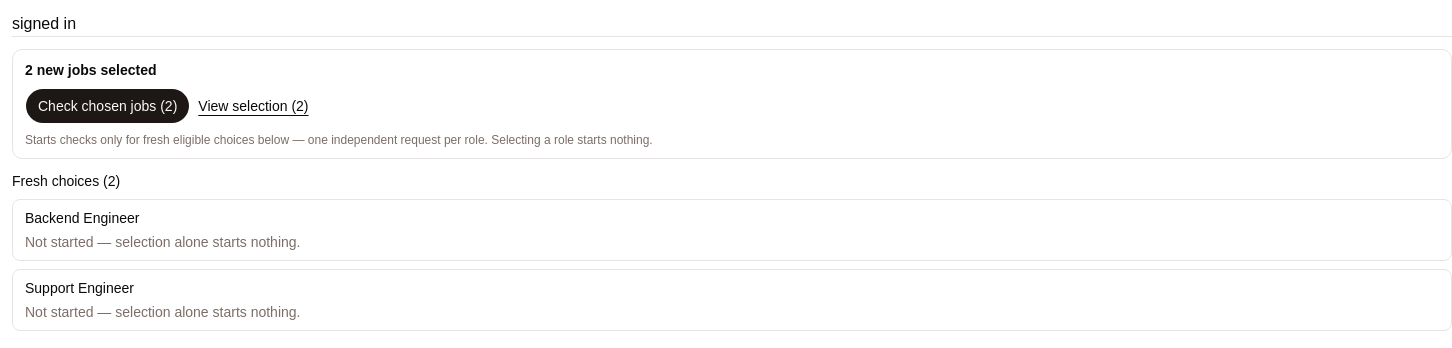
Scenario: CheckChosenJobs › shows a blocked outcome with a check-page link instead of failing the batch
Expected: the text "signed in" is shown, x1=12 y1=15 x2=76 y2=32
Click the button "Check chosen jobs (2)" at [108, 106], box x1=25 y1=88 x2=190 y2=124
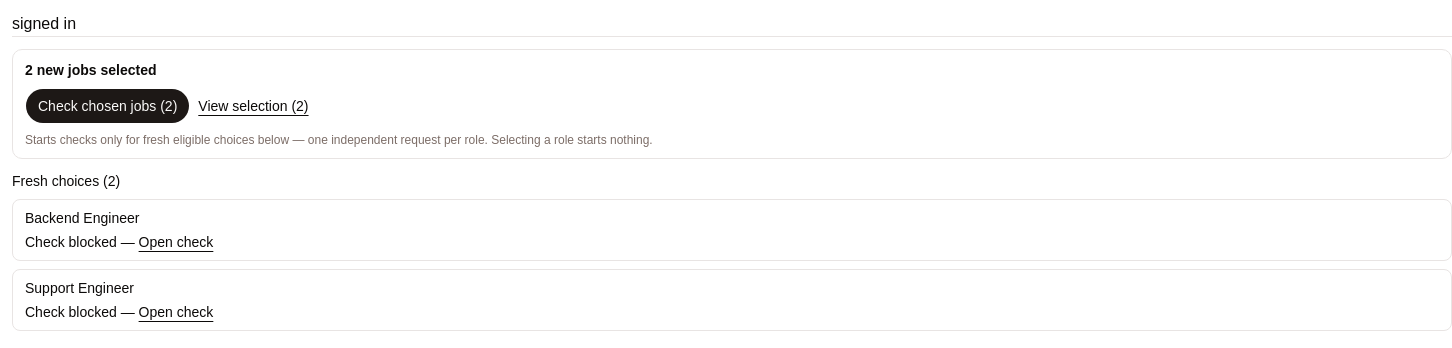
Expected: the text "Check blocked — Open check" is shown 2 times, x1=25 y1=234 x2=213 y2=250; x1=25 y1=304 x2=213 y2=320
Now the number of links "Open check" is 2, box x1=139 y1=234 x2=213 y2=250; x1=139 y1=304 x2=213 y2=320
